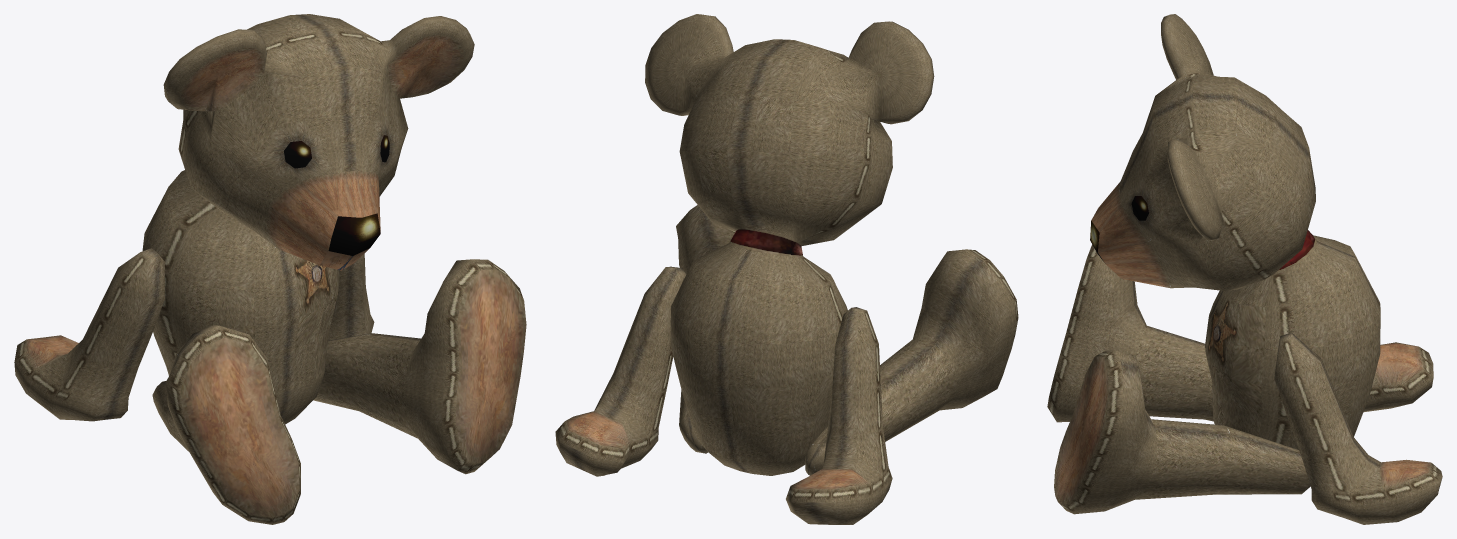
The model's file is Teddy.obj.
3 renders of one model, left to right at view 1: azimuth 30°, elevation 25°; view 2: azimuth 150°, elevation 25°; view 3: azimuth 270°, elevation 25°, orthographic. The views are drawn at different scales.
Visible parts, largest first — view 1: Model001_Mesh1; view 2: Model001_Mesh1; view 3: Model001_Mesh1.
Part boxes in pixels (box(x1,y1,x2,y2)): Model001_Mesh1: box(14, 14, 526, 524); Model001_Mesh1: box(555, 14, 1018, 524); Model001_Mesh1: box(1047, 14, 1442, 524).
Size of the model in its own units: 0.3196 by 0.3872 by 0.3302.
